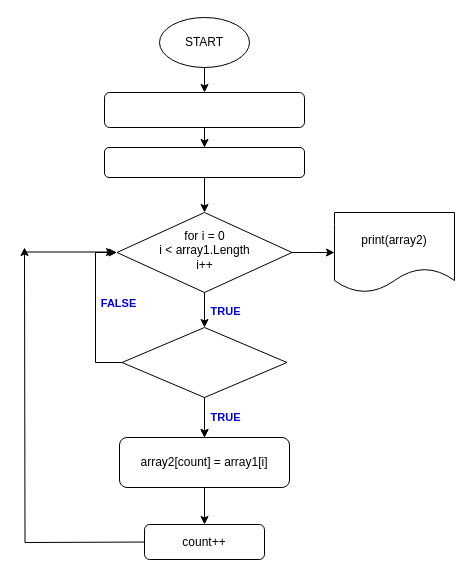
Some shapes in this 472 by 577 pixel diagram are drawn without their labels. Here are the shapes that lost their labels. From the top down, the centre of each, then its label:
At (204,110): "string[] array1; string[] array2 = array1.Length;".
At (204,162): "count = 0;".
At (204,362): "array1[i].Length <= 3".
